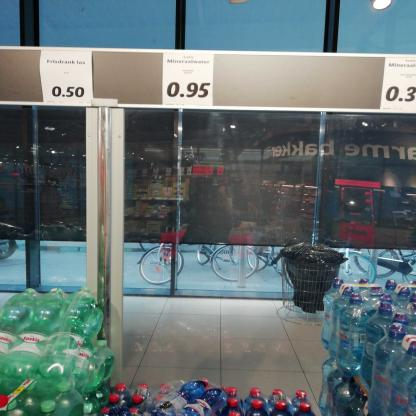prtg: (41, 51, 94, 105), (163, 54, 215, 107), (381, 58, 415, 111)
